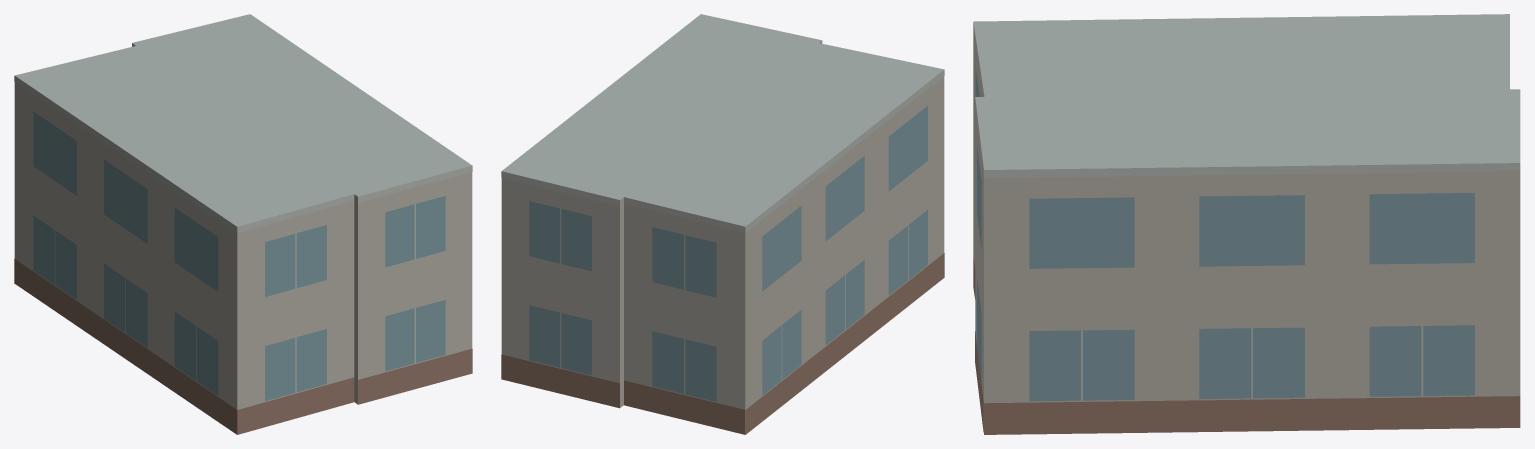
The model's file is survey-upis-32639394.glb.
3 views of the same model, side by side, from view 1: azimuth 30°, elevation 25°; view 2: azimuth 150°, elevation 25°; view 3: azimuth 270°, elevation 25° (orthographic). The views are drawn at different scales.
Visible parts, largest first — view 1: survey-upis-32639394.tmp; view 2: survey-upis-32639394.tmp; view 3: survey-upis-32639394.tmp.
Boxes of the visible parts, x1,y1,x2,y2 form: survey-upis-32639394.tmp: (14,14,472,434); survey-upis-32639394.tmp: (501,14,944,434); survey-upis-32639394.tmp: (973,14,1520,434).
Size of the model in its own units: 9.99 by 7.9 by 14.81.
